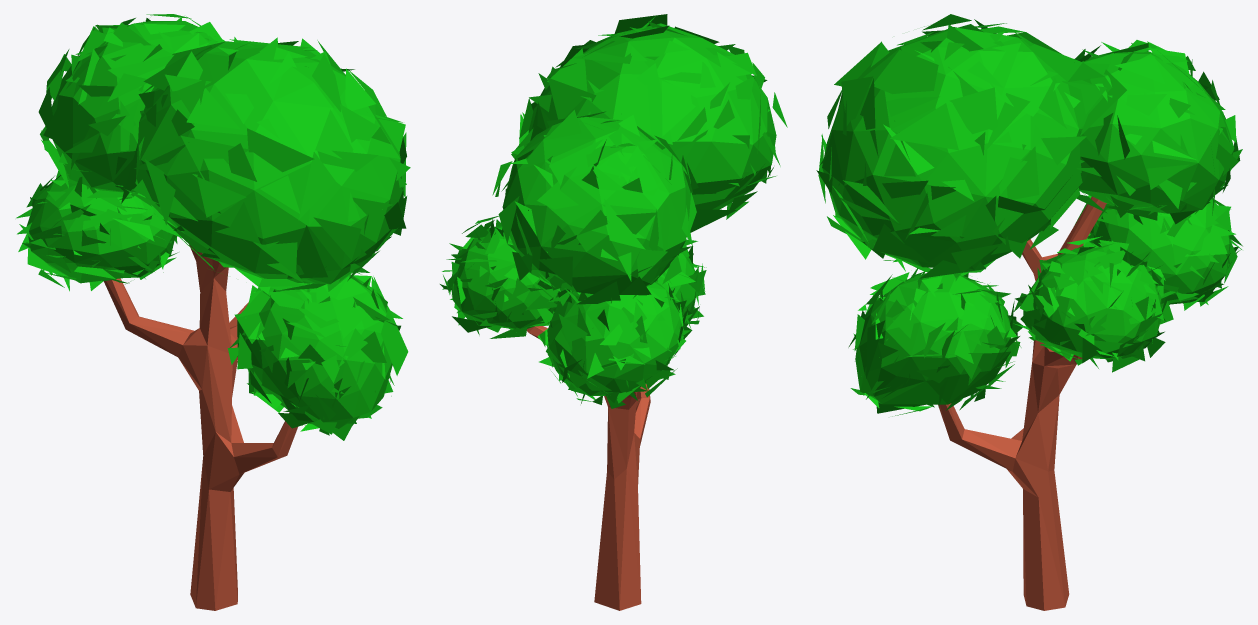
File: tree_B_01.fbx
3 renders of one model, left to right at view 1: azimuth 30°, elevation 25°; view 2: azimuth 150°, elevation 25°; view 3: azimuth 270°, elevation 25°, orthographic. The views are drawn at different scales.
Visible parts, largest first — view 1: tree_B_01; view 2: tree_B_01; view 3: tree_B_01.
Boxes of the visible parts, x1,y1,x2,y2 form: tree_B_01: (16,14,410,610); tree_B_01: (440,14,787,610); tree_B_01: (816,14,1242,610).
Bounding box in the file's own units: 138 × 273 × 184.
